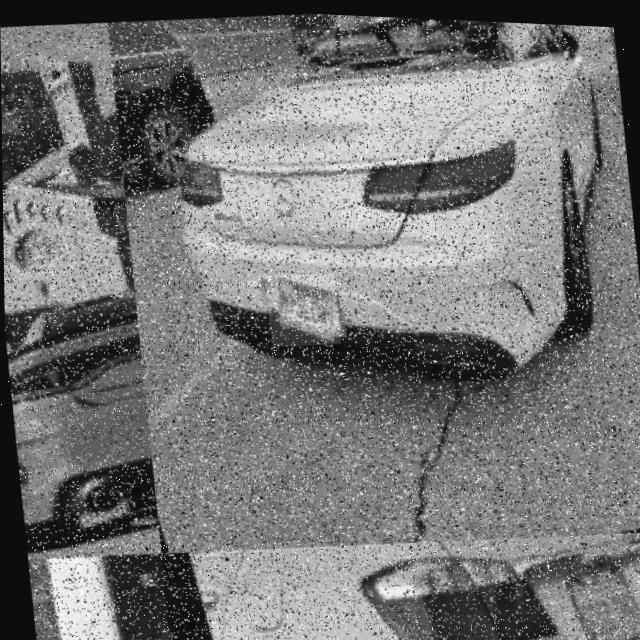LicensePlate: (561, 561, 640, 638), (269, 273, 335, 341)
